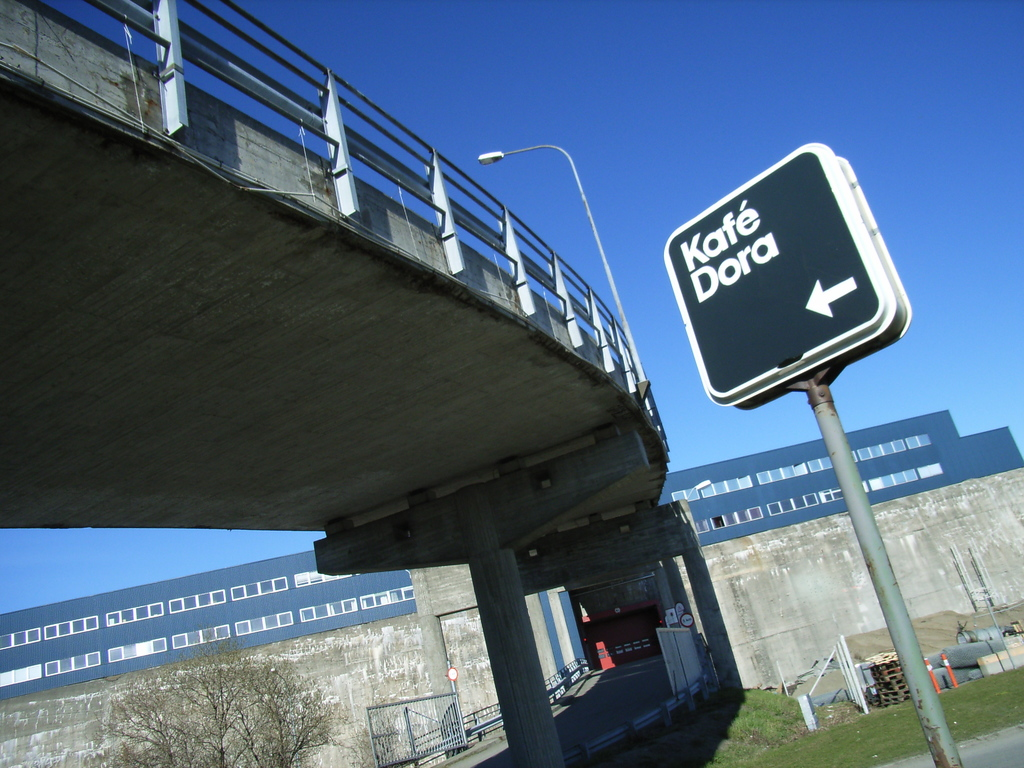Window: (0, 580, 417, 685), (0, 563, 349, 652), (669, 430, 935, 505), (695, 463, 943, 525), (707, 513, 724, 531)
